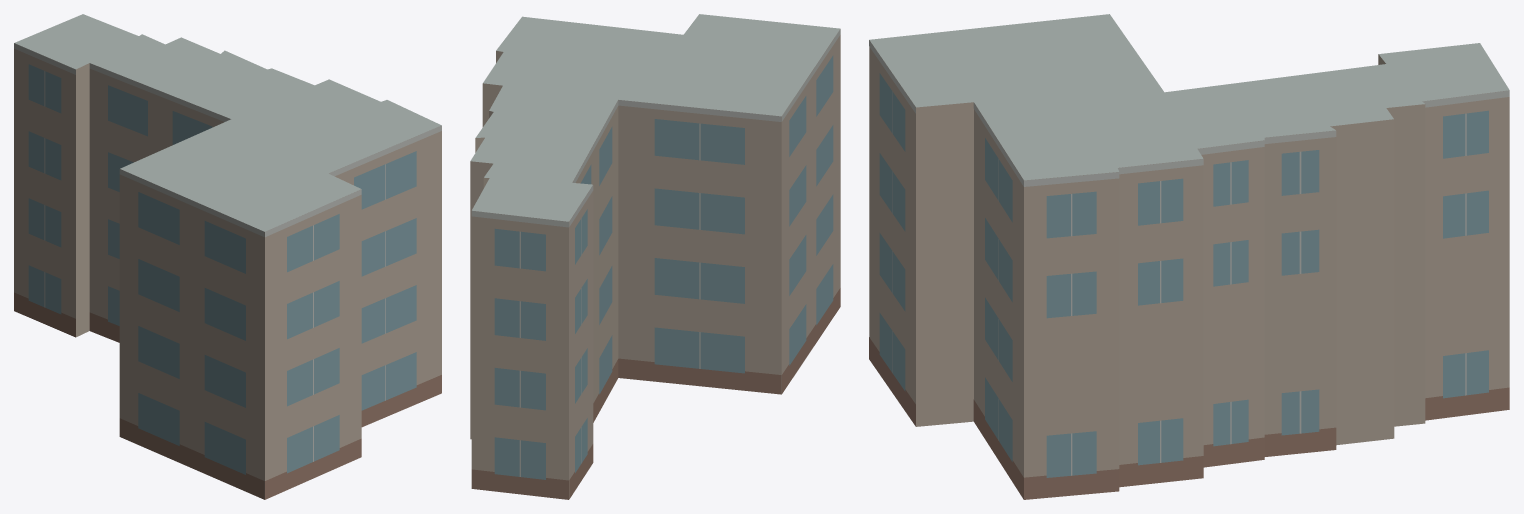
File: survey-upis-32975670.glb
The picture shows the model from 3 angles, left to right: view 1: azimuth 30°, elevation 25°; view 2: azimuth 150°, elevation 25°; view 3: azimuth 270°, elevation 25°; orthographic projection. The views are drawn at different scales.
Visible parts, largest first — view 1: survey-upis-32975670.tmp; view 2: survey-upis-32975670.tmp; view 3: survey-upis-32975670.tmp.
Part boxes in pixels (box(x1,y1,x2,y2)): survey-upis-32975670.tmp: box(14, 14, 441, 499); survey-upis-32975670.tmp: box(470, 14, 840, 499); survey-upis-32975670.tmp: box(869, 14, 1509, 499).
Size of the model in its own units: 13.25 by 11.85 by 21.55.
